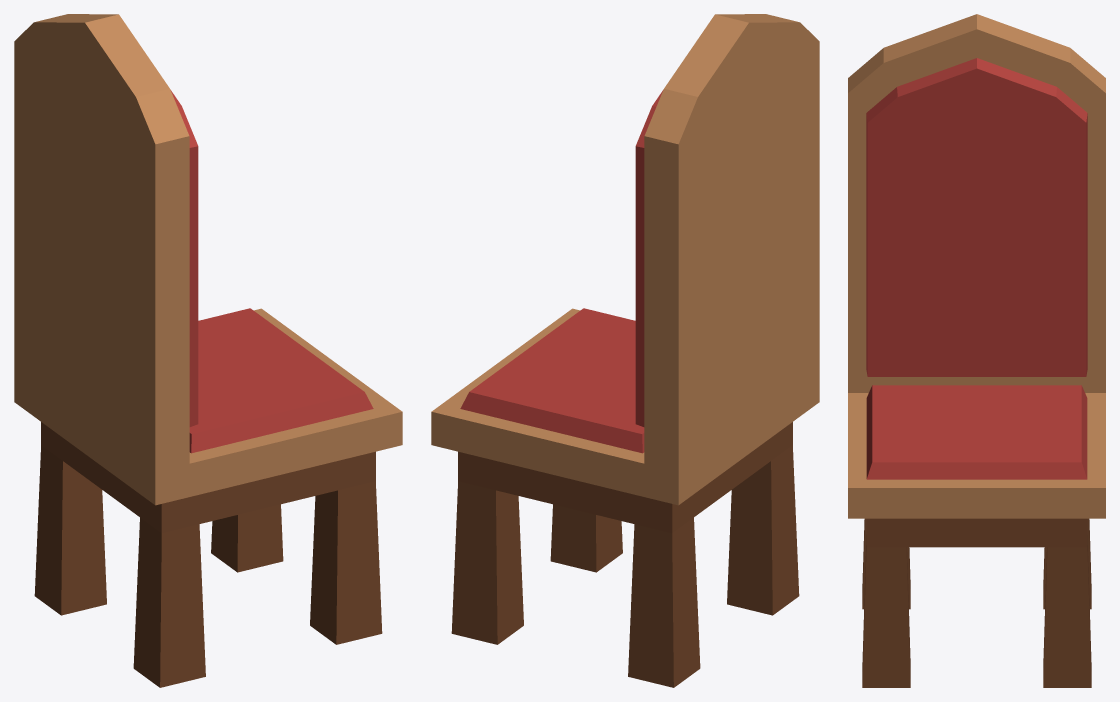
The model's file is ChairCushioned.glb.
3 renders of one model, left to right at view 1: azimuth 30°, elevation 25°; view 2: azimuth 150°, elevation 25°; view 3: azimuth 270°, elevation 25°, orthographic. The views are drawn at different scales.
Bounding box in the file's own units: 0.4379 × 1.05 × 0.4326.
